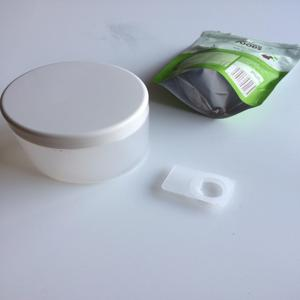plastic: (1, 58, 158, 192), (151, 24, 300, 124), (148, 157, 262, 214)
